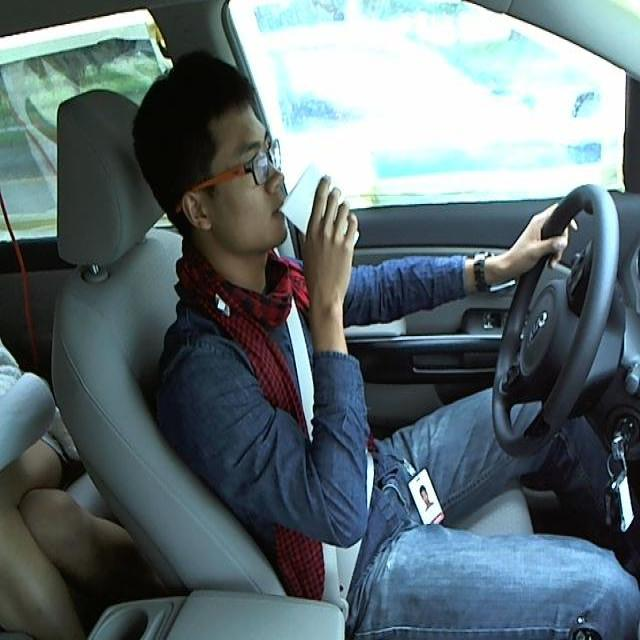Seatbelt: (278, 161, 358, 267)
